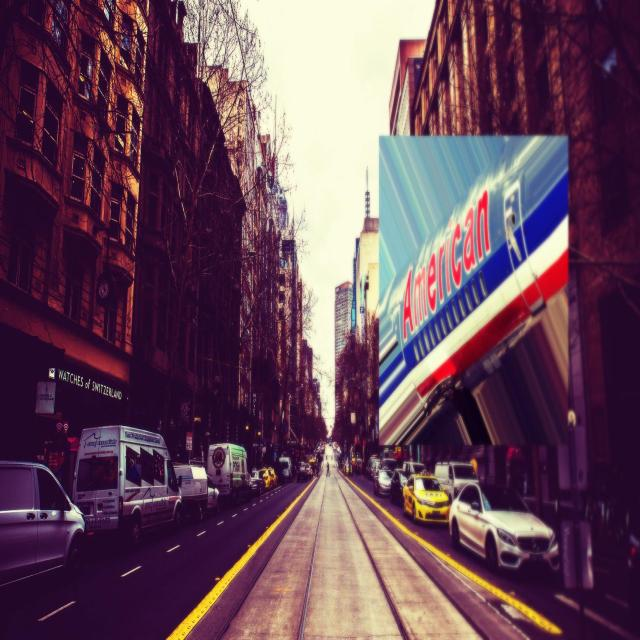airplane: (379, 136, 566, 440)
